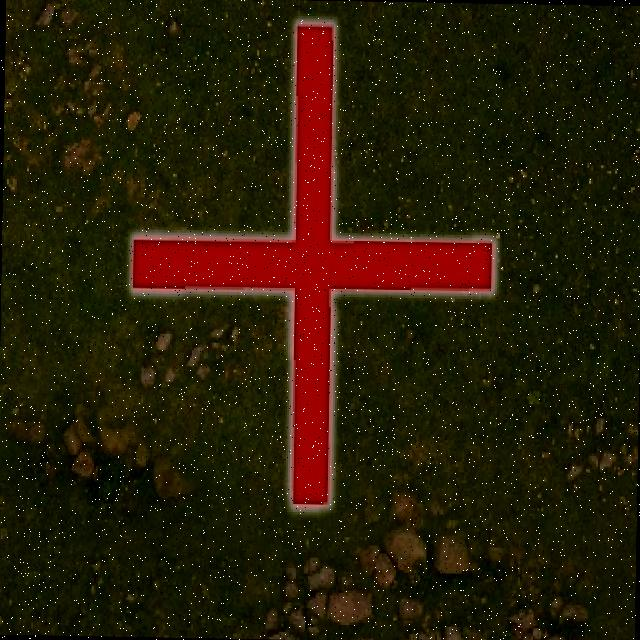x_marker: (128, 19, 496, 508)
